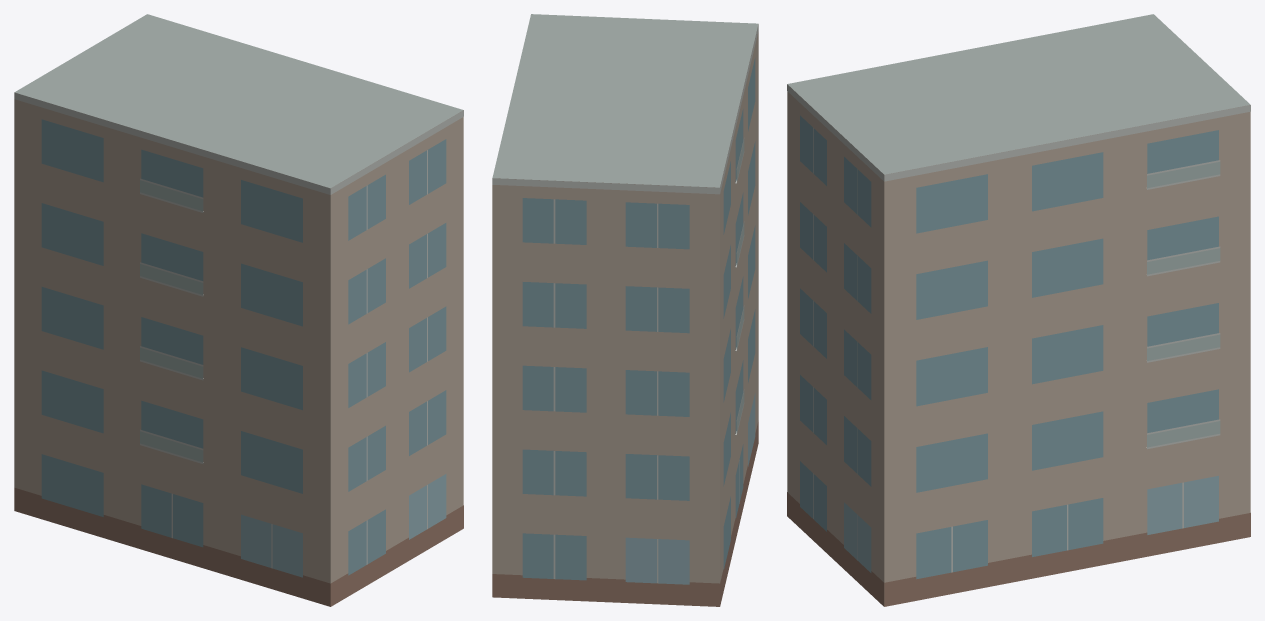
The model's file is residential-1660ba39-2ae2-4195-807a-e14b92530be1.glb.
3 renders of one model, left to right at view 1: azimuth 30°, elevation 25°; view 2: azimuth 150°, elevation 25°; view 3: azimuth 270°, elevation 25°, orthographic. The views are drawn at different scales.
Visible parts, largest first — view 1: residential-1660ba39-2ae2-4195-807a-e14b92530be1.tmp; view 2: residential-1660ba39-2ae2-4195-807a-e14b92530be1.tmp; view 3: residential-1660ba39-2ae2-4195-807a-e14b92530be1.tmp.
Boxes of the visible parts, x1=… form: residential-1660ba39-2ae2-4195-807a-e14b92530be1.tmp: x1=14, y1=14, x2=463, y2=606; residential-1660ba39-2ae2-4195-807a-e14b92530be1.tmp: x1=492, y1=14, x2=758, y2=606; residential-1660ba39-2ae2-4195-807a-e14b92530be1.tmp: x1=787, y1=14, x2=1250, y2=606.
Bounding box in the file's own units: 12.17 × 15.25 × 14.84.
